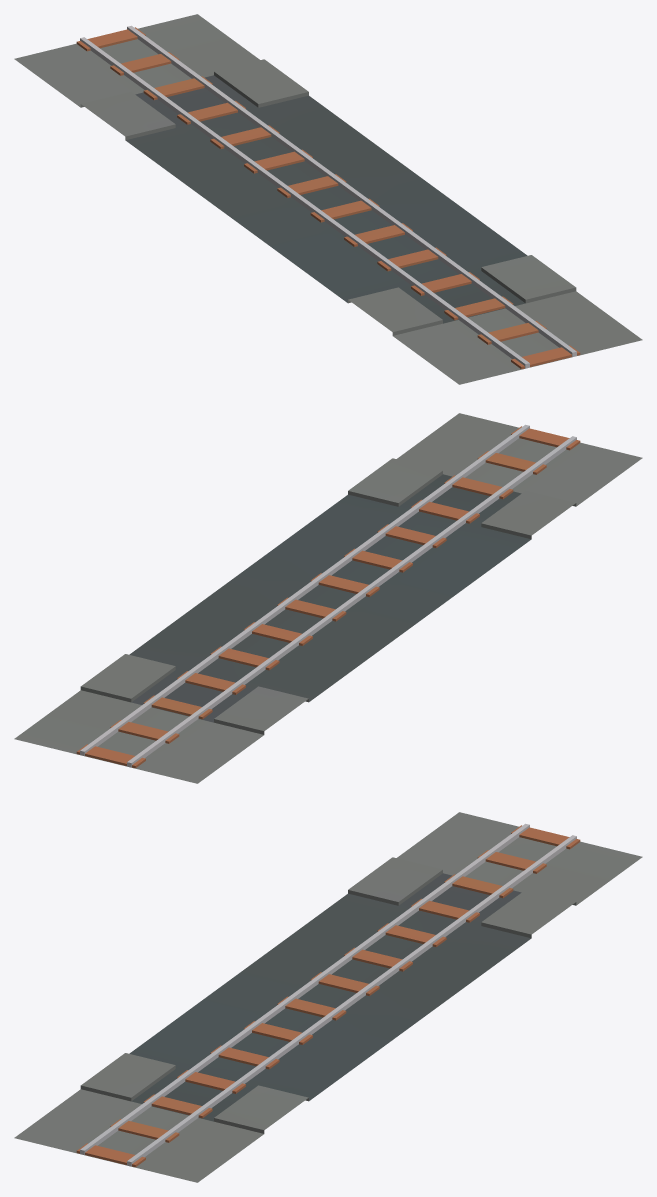
File: city_road_railroad_2.glb
3 renders of one model, top to bottom at view 1: azimuth 30°, elevation 25°; view 2: azimuth 150°, elevation 25°; view 3: azimuth 330°, elevation 25°, orthographic.
Parts seen in each view (by area): view 1: Road_Railroad_1_Mat_0; view 2: Road_Railroad_1_Mat_0; view 3: Road_Railroad_1_Mat_0.
Boxes of the visible parts, x1,y1,x2,y2 form: Road_Railroad_1_Mat_0: (14,14,642,384); Road_Railroad_1_Mat_0: (14,413,642,783); Road_Railroad_1_Mat_0: (14,812,642,1182).
Size of the model in its own units: 2.04 by 0.0481 by 8.57.
Materials: 1 (1 with a texture image).
